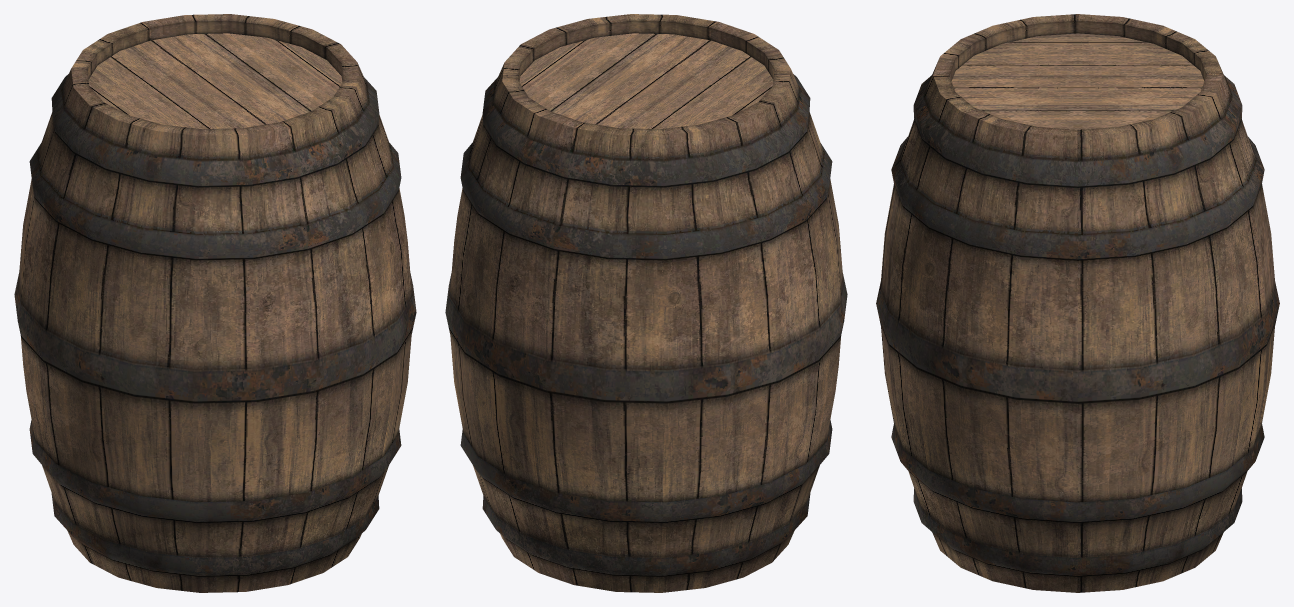
The model's file is the_barrel.dae.
3 renders of one model, left to right at view 1: azimuth 30°, elevation 25°; view 2: azimuth 150°, elevation 25°; view 3: azimuth 270°, elevation 25°, orthographic.
Parts seen in each view (by area): view 1: the_barrel; view 2: the_barrel; view 3: the_barrel.
Part boxes in pixels (x1,y1,x2,y2): the_barrel: (14,14,416,592); the_barrel: (445,14,847,592); the_barrel: (876,14,1279,592).
Size of what is drawn, in the model's own units: 62.92 by 62.92 by 78.48.
